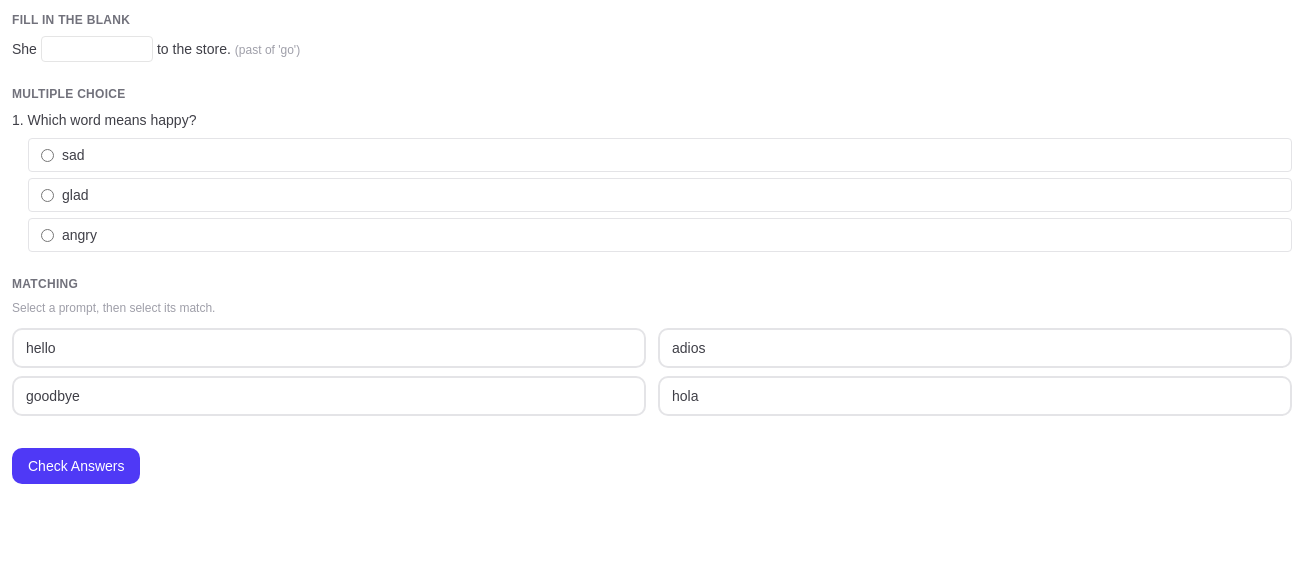
ExercisesRenderer.Student › shows explanation below wrong fill-in-blank answer
Type "go" into the field with test id "fib-input-0".
click(97, 49); type("go")  # box [41,36,153,62]
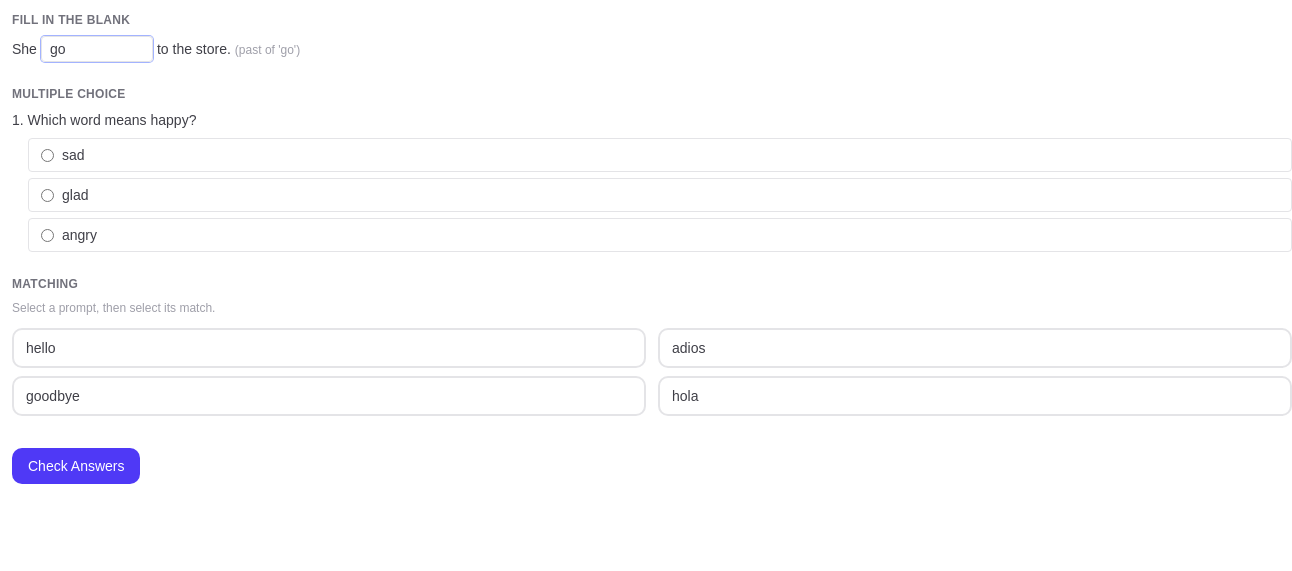
Click the button with test id "check-answers-btn".
click(76, 466)  # box [12,448,140,484]
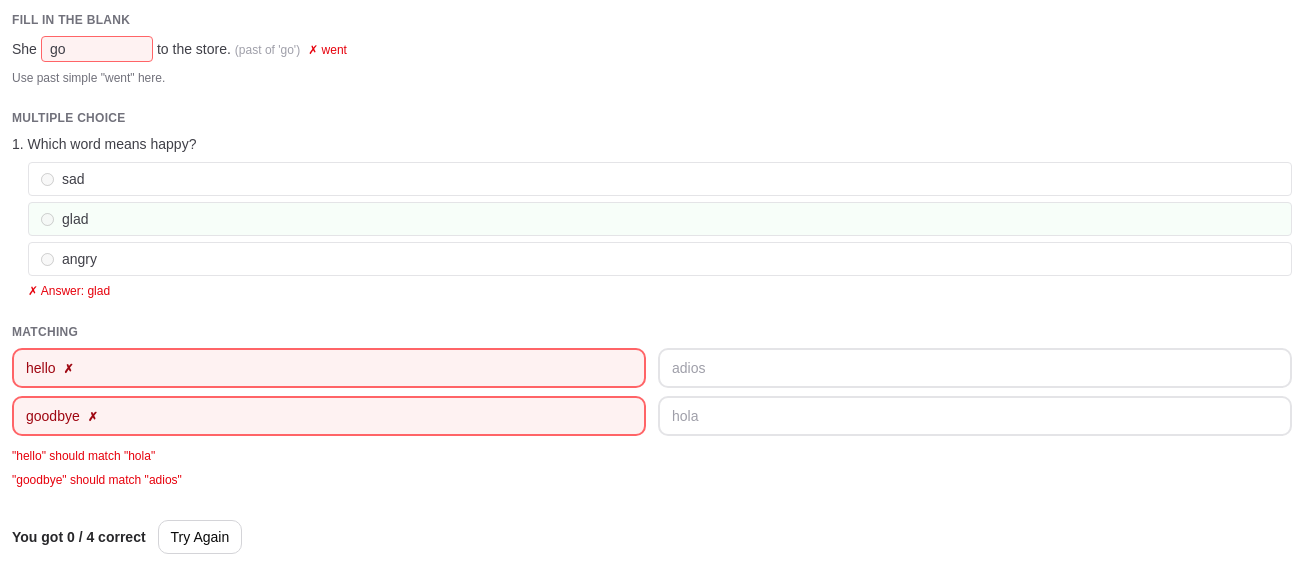
Expected: the text with test id "fib-result-0" shows "✗", [308,43,347,57]
Expected: the text with test id "fib-explanation-0" reads "Use past simple \"went\" here.", [12,71,165,85]
